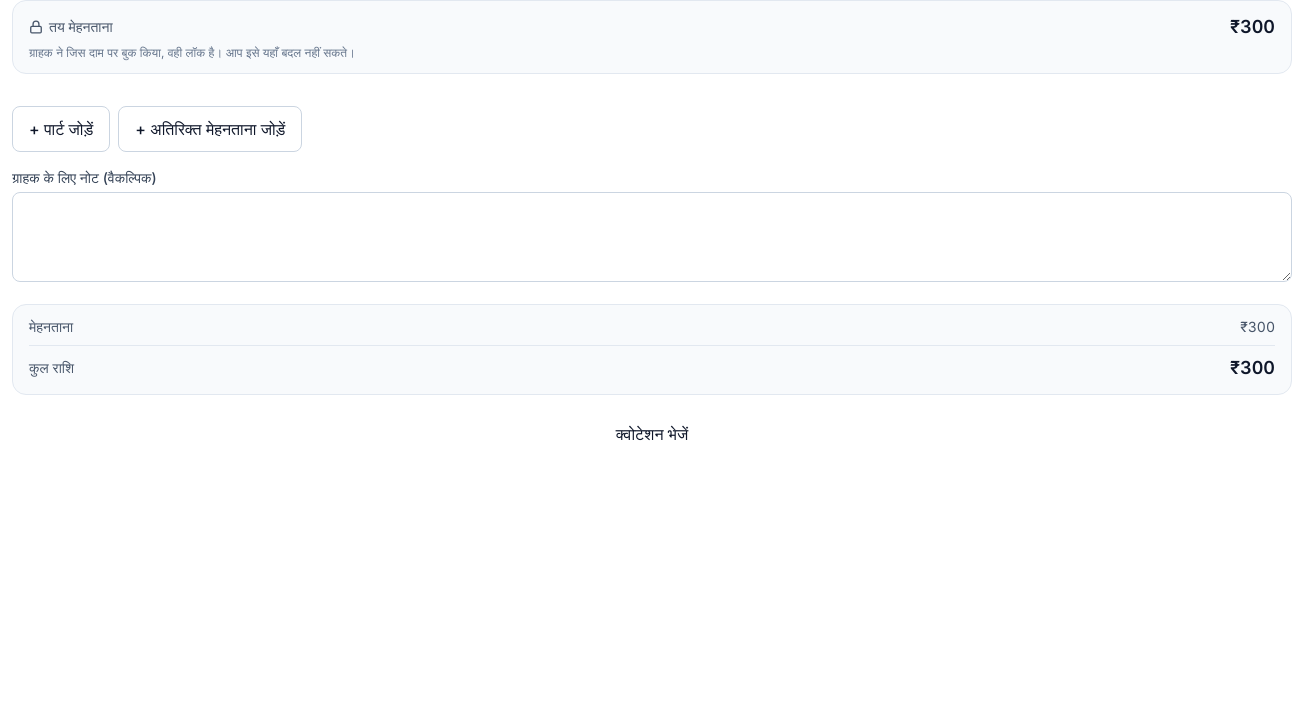
Scenario: QuoteBuilder › will not send extra labour until a reason is written
Click the button "+ अतिरिक्त मेहनताना जोड़ें".
click(210, 129)  # box [118,106,302,152]
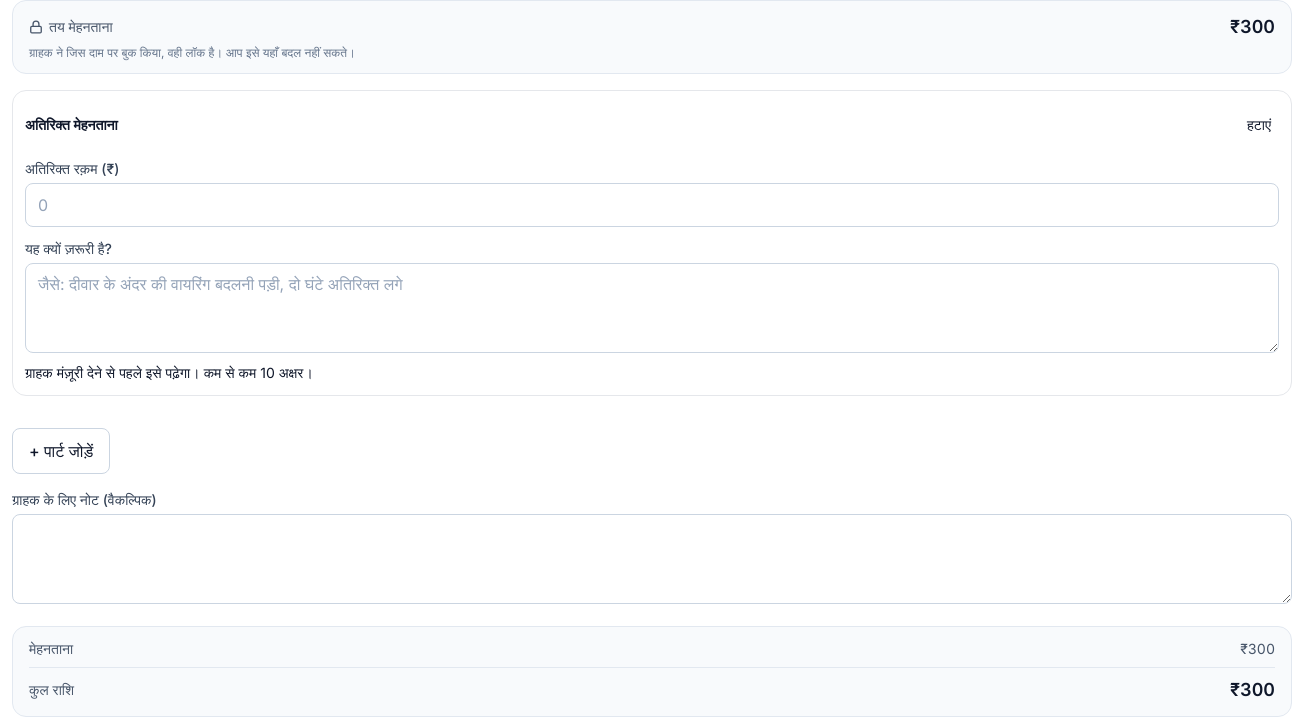
Type "200" into the field labelled "अतिरिक्त रक़म (₹)".
click(652, 205); type("200")  # box [25,183,1279,227]
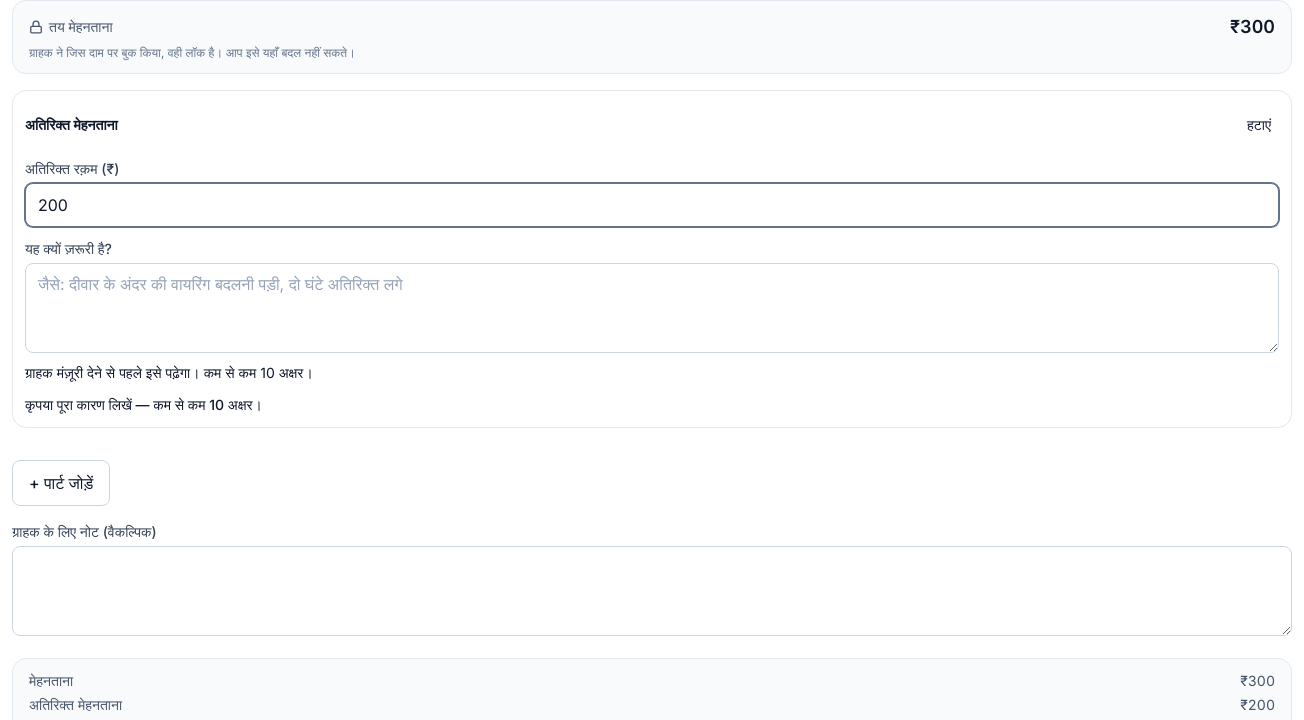
Type "Wall wiring had to be replaced" into the text box labelled "यह क्यों ज़रूरी है?".
click(652, 308); type("Wall wiring had to be replaced")  # box [25,263,1279,353]
(page scrolled)
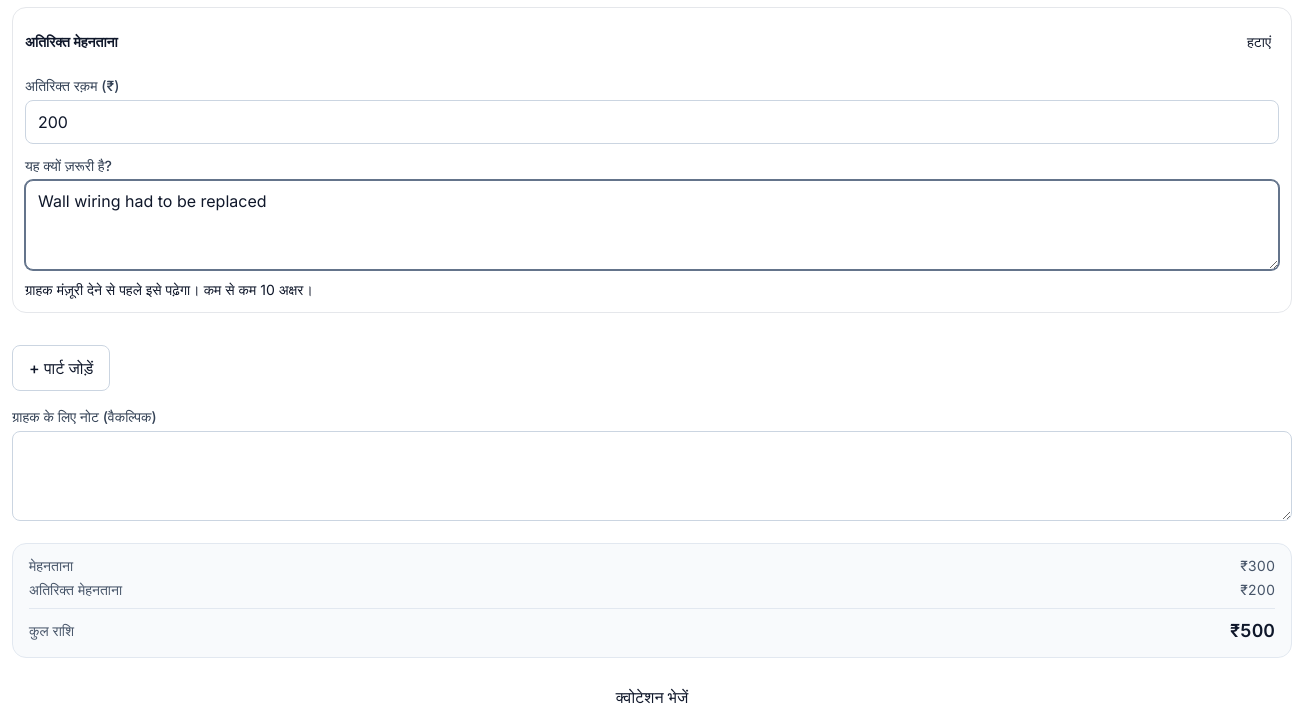
Now the button "क्वोटेशन भेजें" is enabled, box [12,674,1292,719]
